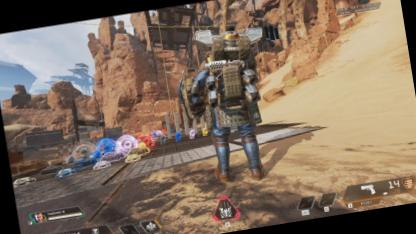Target: (184, 18, 284, 192)
